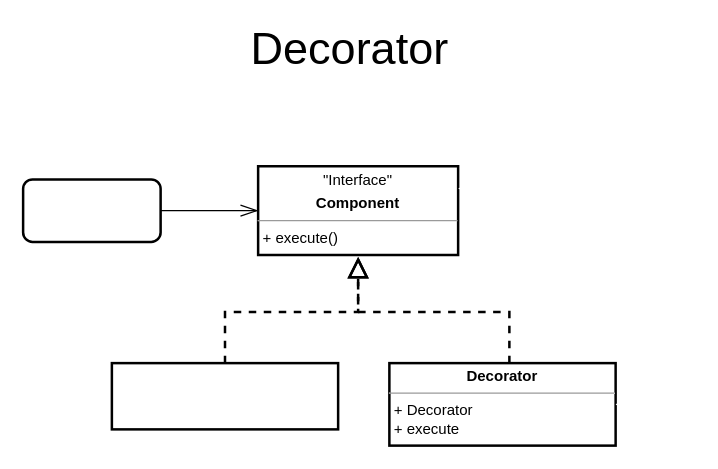
Some shapes in this 718 by 469 pixel diagram are drawn without their labels. The shapes that lost their labels are listed below. From the top down, each one's centre as x and y in pixels, then its label:
(91,210): Client
(224,395): Concrete Component + execute
